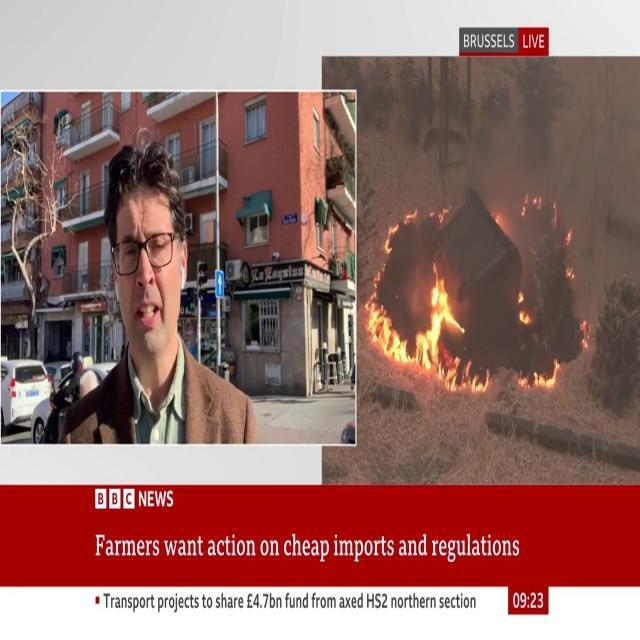Fire: (360, 258, 490, 391), (515, 354, 565, 394)
Smoke: (488, 57, 640, 319)
